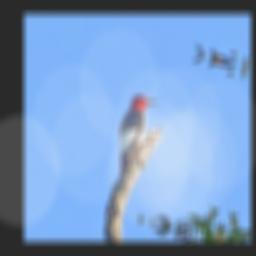Woodpecker: (100, 82, 165, 201)
